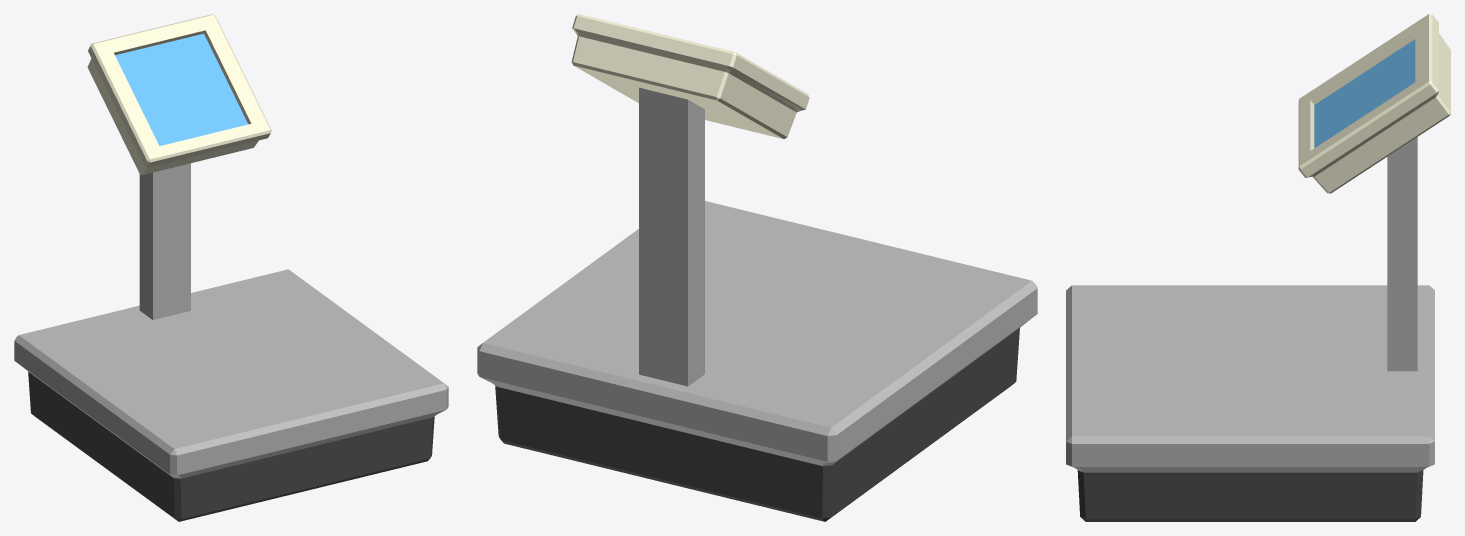
File: Props_Scales.fbx
The picture shows the model from 3 angles, left to right: view 1: azimuth 30°, elevation 25°; view 2: azimuth 150°, elevation 25°; view 3: azimuth 270°, elevation 25°; orthographic projection. The views are drawn at different scales.
Parts seen in each view (by area): view 1: Props_Scales; view 2: Props_Scales; view 3: Props_Scales.
Boxes of the visible parts, <box> form: Props_Scales: <box>14,14,448,521</box>; Props_Scales: <box>477,14,1037,521</box>; Props_Scales: <box>1066,14,1450,521</box>.
Size of the model in its own units: 100 by 121 by 104.
